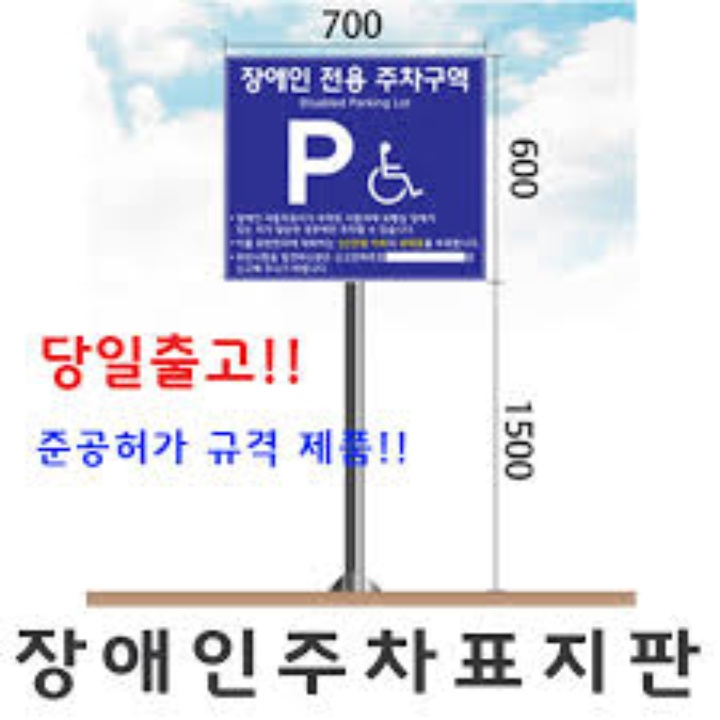parking: (285, 115, 355, 208)
